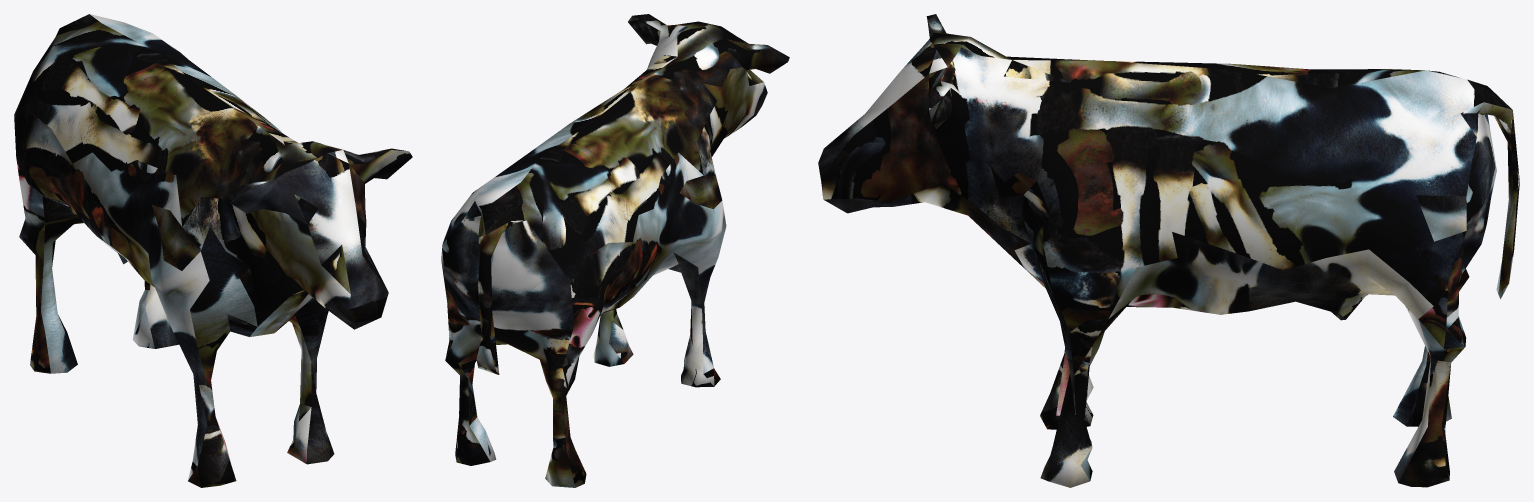
Rendered from Cow_Low_Poly.obj.
3 views of the same model, side by side, from view 1: azimuth 30°, elevation 25°; view 2: azimuth 150°, elevation 25°; view 3: azimuth 270°, elevation 25° (orthographic). The views are drawn at different scales.
Size of the model in its own units: 0.8835 by 1.64 by 2.56.
1 material, 1 textured.
